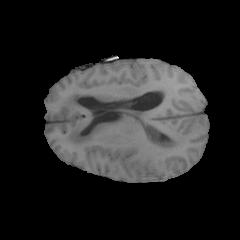glioma: (63, 92, 184, 155)
